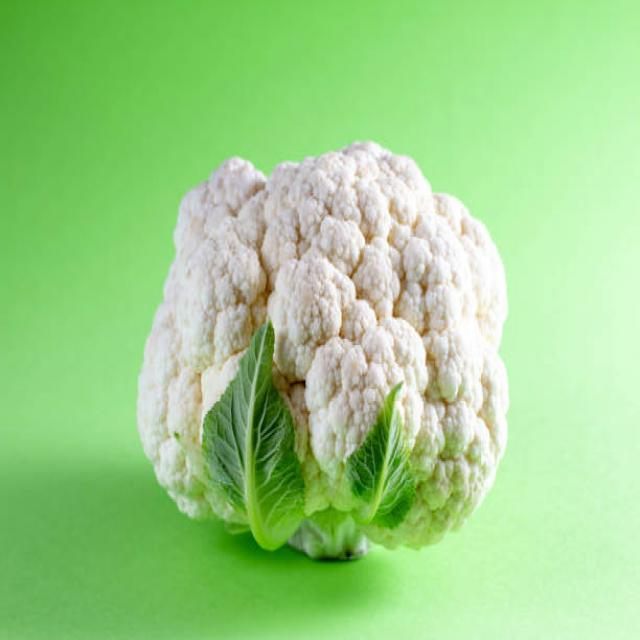cauliflower: (131, 95, 535, 576)
